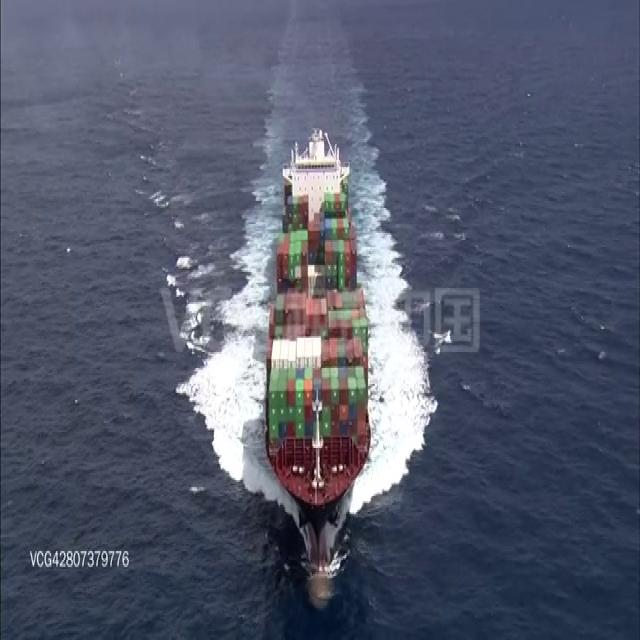cargoship: (259, 125, 373, 595)
